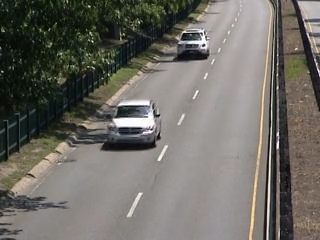car: (103, 96, 165, 153), (174, 28, 213, 63)
